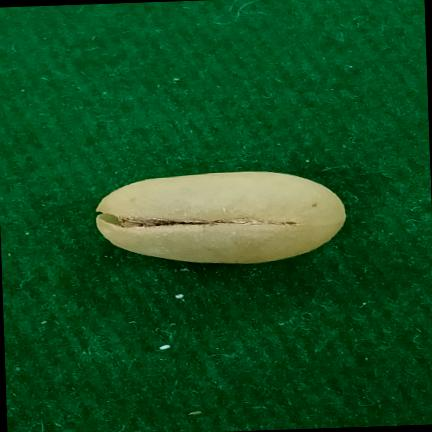parchment: (96, 172, 346, 264)
